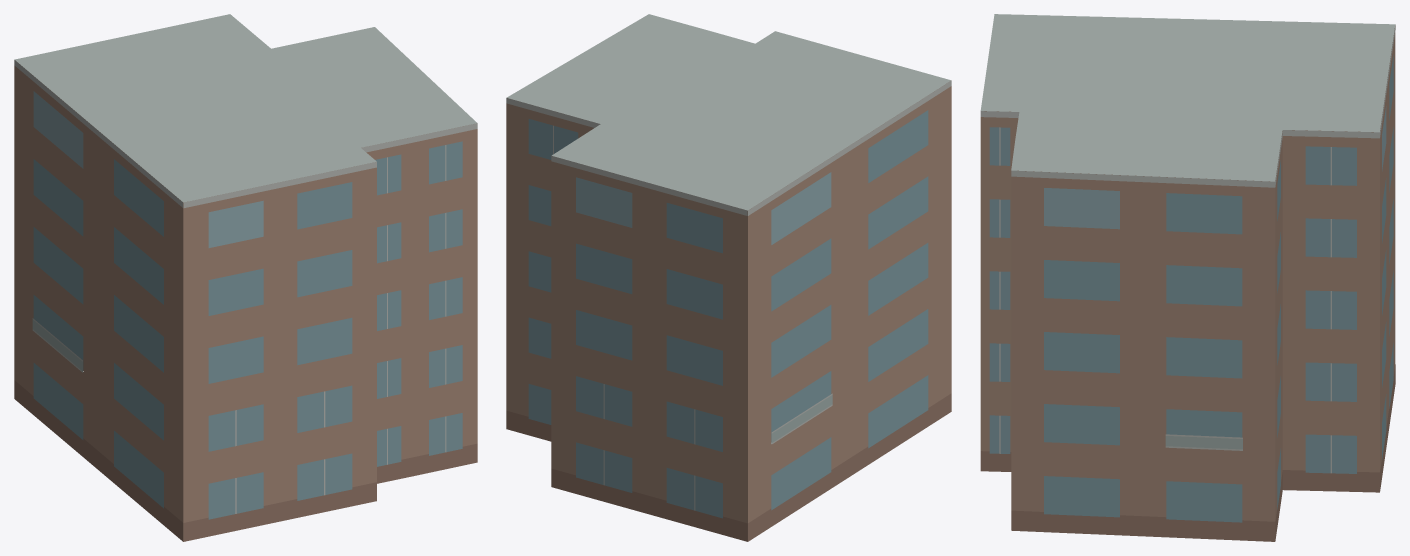
Rendered from survey-upis-32836670.glb.
The picture shows the model from 3 angles, left to right: view 1: azimuth 30°, elevation 25°; view 2: azimuth 150°, elevation 25°; view 3: azimuth 270°, elevation 25°; orthographic projection. The views are drawn at different scales.
Parts seen in each view (by area): view 1: survey-upis-32836670.tmp; view 2: survey-upis-32836670.tmp; view 3: survey-upis-32836670.tmp.
Part boxes in pixels (bbox=[...]): survey-upis-32836670.tmp: bbox=[14, 14, 477, 541]; survey-upis-32836670.tmp: bbox=[506, 14, 951, 541]; survey-upis-32836670.tmp: bbox=[980, 14, 1395, 541].
Bounding box in the file's own units: 14.38 × 14.4 × 15.04.
